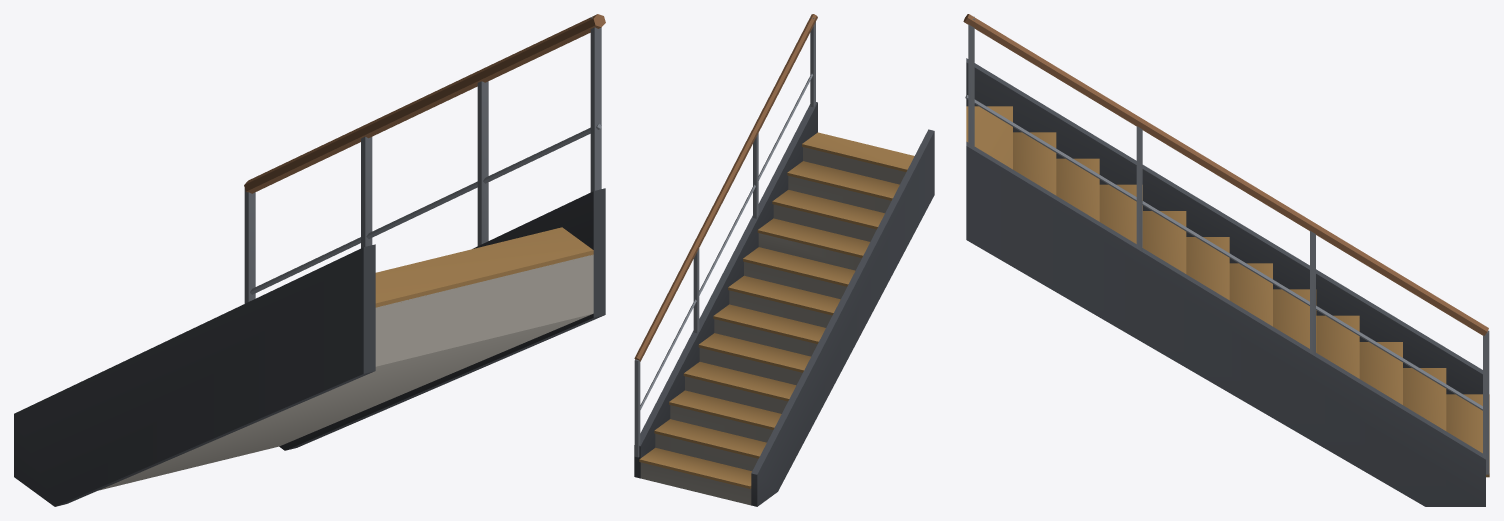
File: stairs_flight_01.glb
The picture shows the model from 3 angles, left to right: view 1: azimuth 30°, elevation 25°; view 2: azimuth 150°, elevation 25°; view 3: azimuth 270°, elevation 25°; orthographic projection. The views are drawn at different scales.
Visible parts, largest first — view 1: stairs_flight_01_mesh; view 2: stairs_flight_01_mesh; view 3: stairs_flight_01_mesh.
Boxes of the visible parts, <box> form: stairs_flight_01_mesh: <box>14,14,605,506</box>; stairs_flight_01_mesh: <box>634,14,934,506</box>; stairs_flight_01_mesh: <box>963,14,1489,506</box>.
Size of the model in its own units: 1.2 by 3.12 by 3.04.
1 material, 1 textured.
